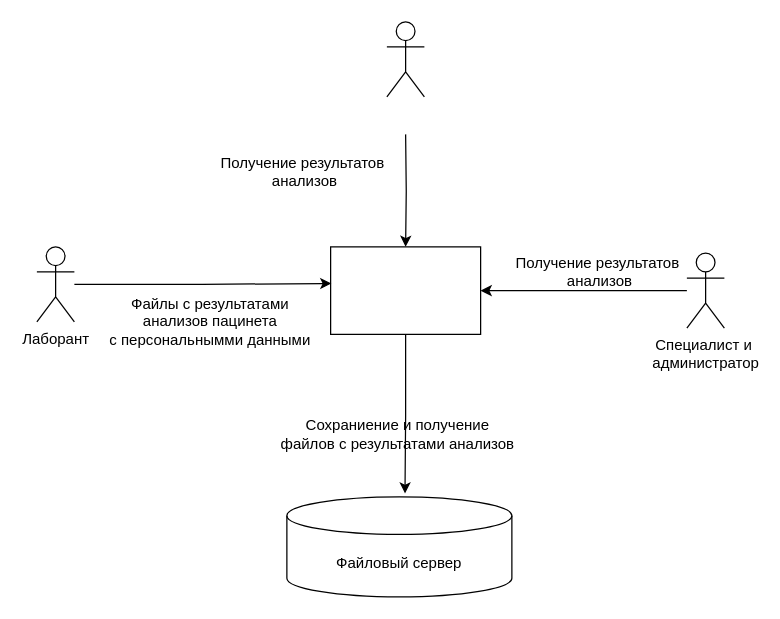
The diagram is 780 pixels wide and 619 high, and some of its shapes have lost their labels. The centre of each missing label's shape, as x and y in pixels:
"Пациент" goes at (x=405, y=59).
"Ресепшен" goes at (x=405, y=290).
